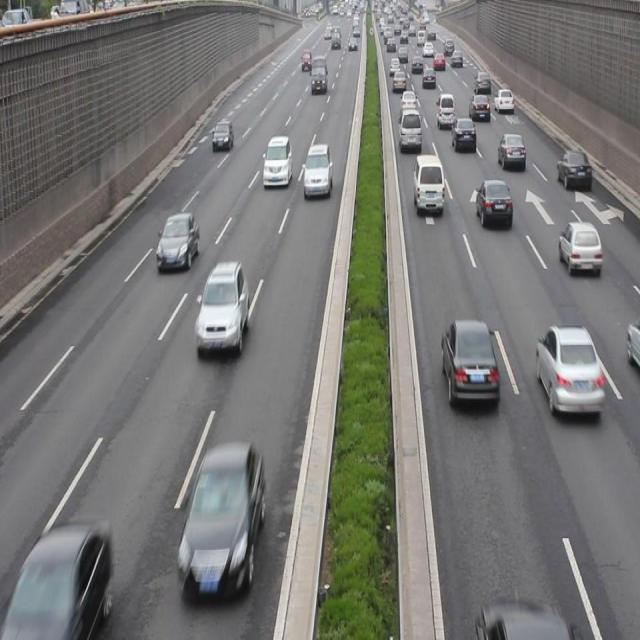car: (179, 445, 262, 590), (15, 525, 110, 631), (535, 324, 602, 418), (438, 316, 499, 412), (194, 266, 247, 354), (556, 220, 600, 278), (155, 215, 199, 269), (412, 154, 444, 216), (474, 178, 510, 230), (302, 145, 332, 198), (262, 137, 293, 188), (556, 150, 590, 191), (495, 134, 524, 169), (397, 110, 421, 151), (451, 117, 474, 153), (212, 121, 233, 152)
truck: (436, 93, 454, 127)
